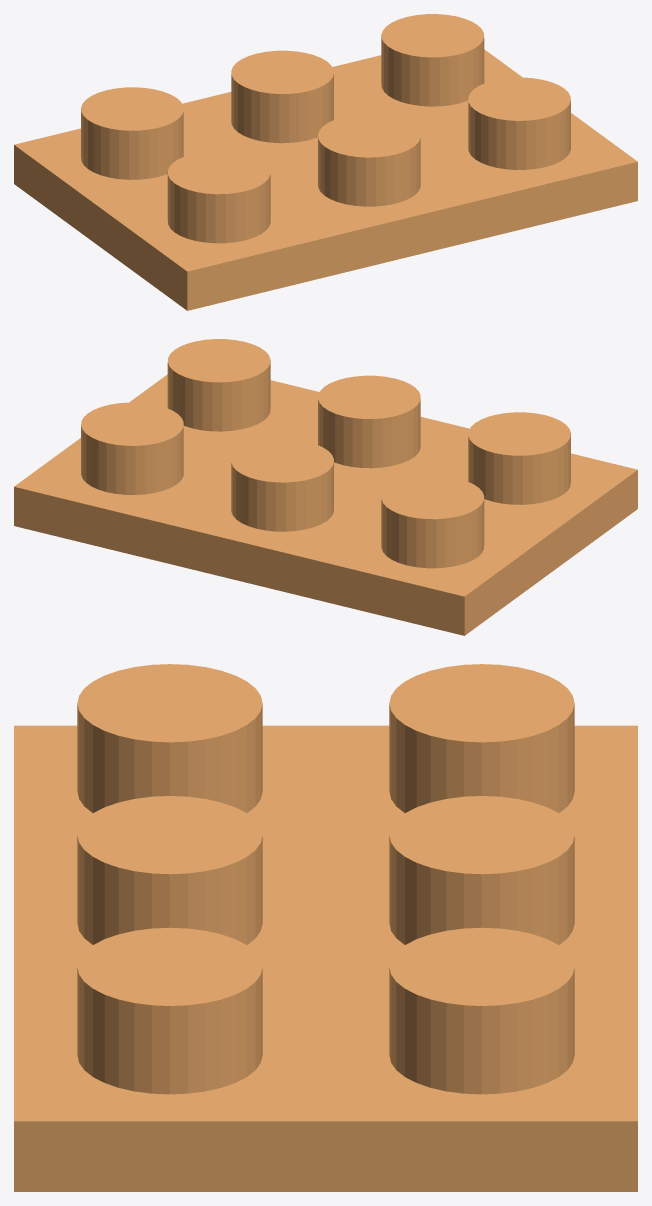
Rendered from forge-mount.glb.
The picture shows the model from 3 angles, top to bottom: view 1: azimuth 30°, elevation 25°; view 2: azimuth 150°, elevation 25°; view 3: azimuth 270°, elevation 25°; orthographic projection. The views are drawn at different scales.
Parts seen in each view (by area): view 1: forge-mount; view 2: forge-mount; view 3: forge-mount.
Part boxes in pixels (left/top/right/bottom): forge-mount: left=14, top=14, right=637, bottom=310; forge-mount: left=14, top=339, right=637, bottom=635; forge-mount: left=14, top=664, right=637, bottom=1191.
Size of the model in its own units: 0.048 by 0.009 by 0.032.
